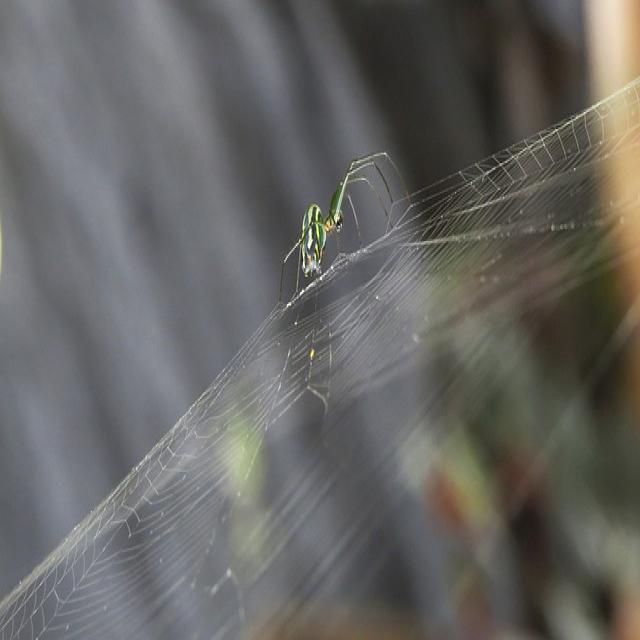spyder: (281, 151, 395, 296)
